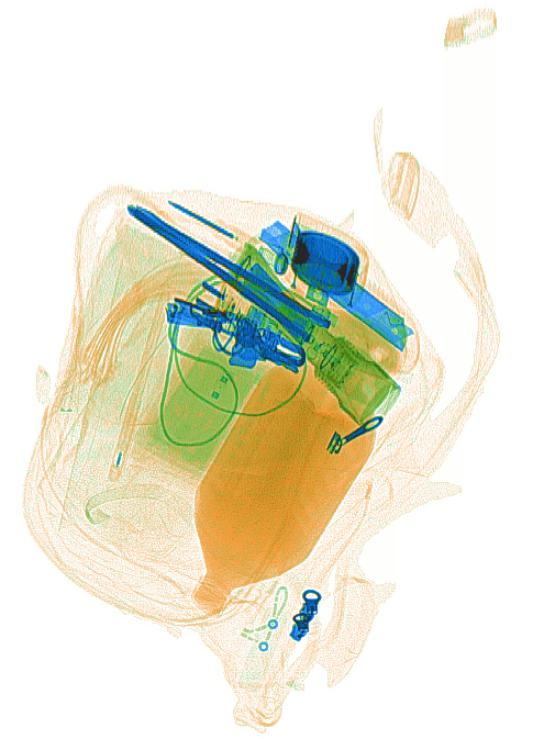battery: (240, 259, 317, 345)
knife: (259, 219, 417, 369)
